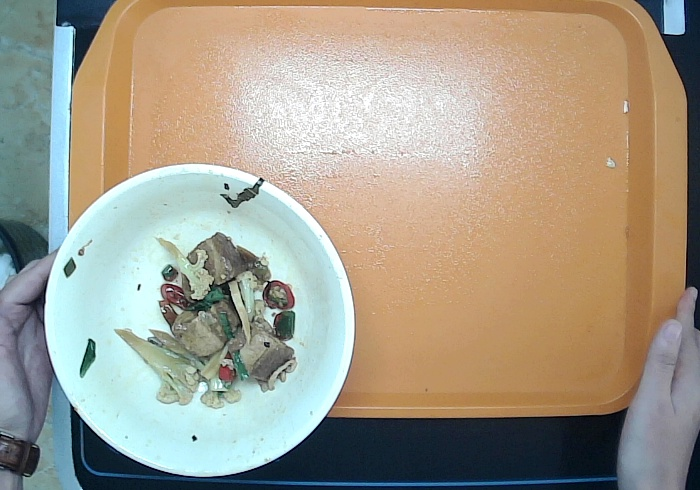ZNLD-Da_Tang_Wan: (42, 159, 360, 481)
